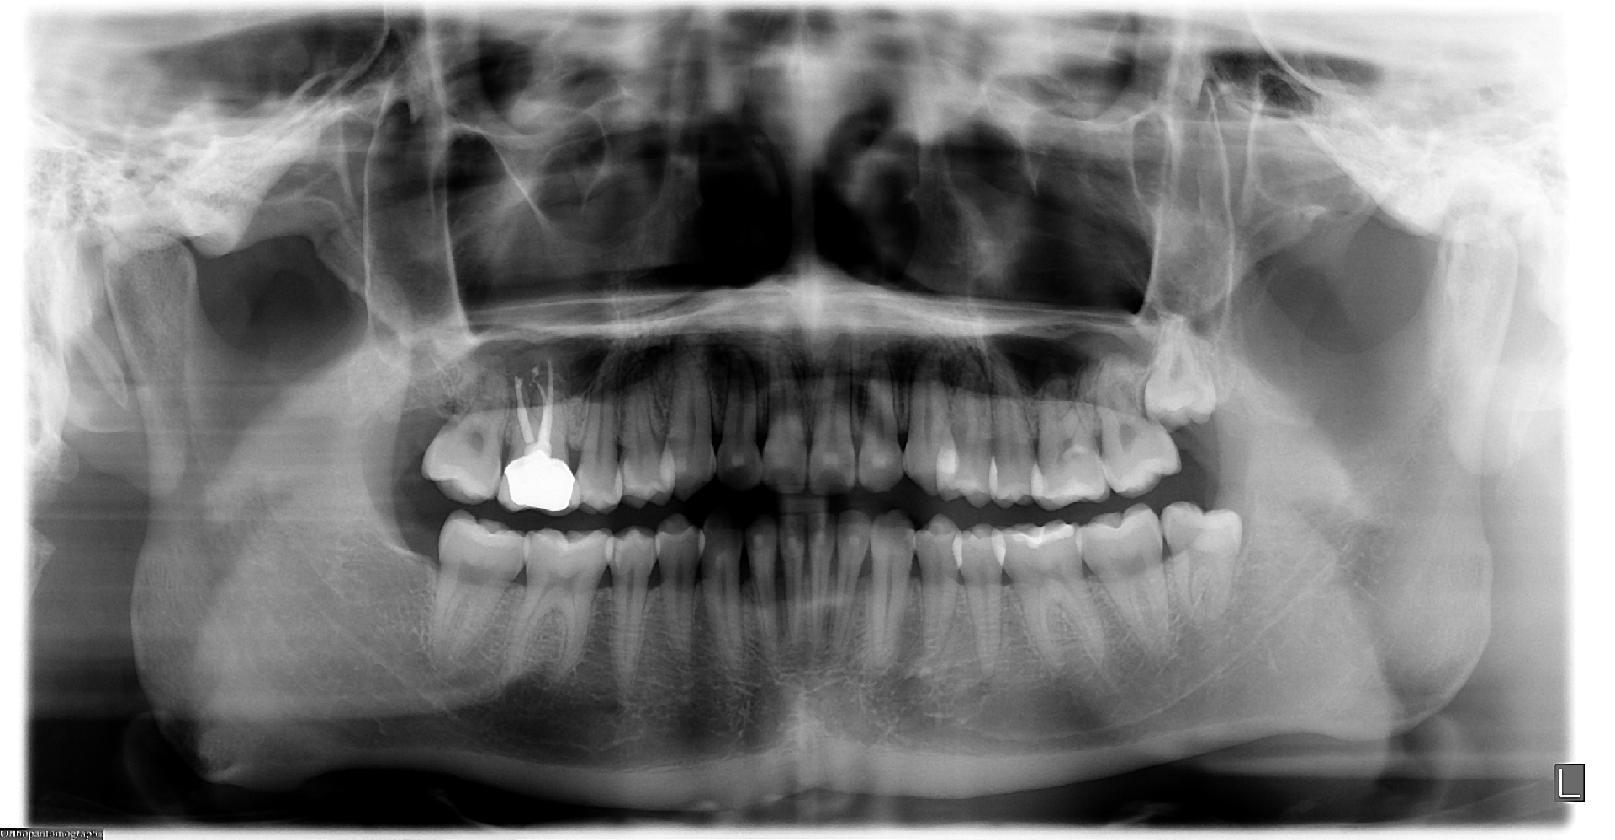Vertical: (1162, 491, 1256, 647)
